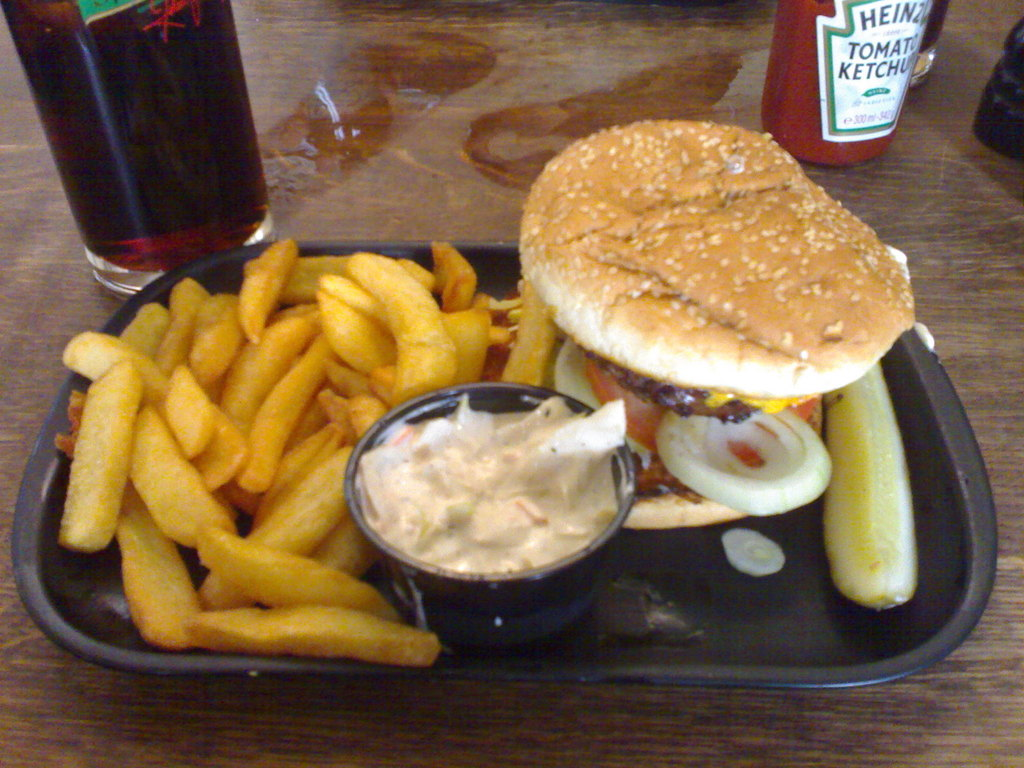French fries: (51, 217, 469, 679)
